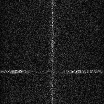wifi: (1, 69, 104, 73)
